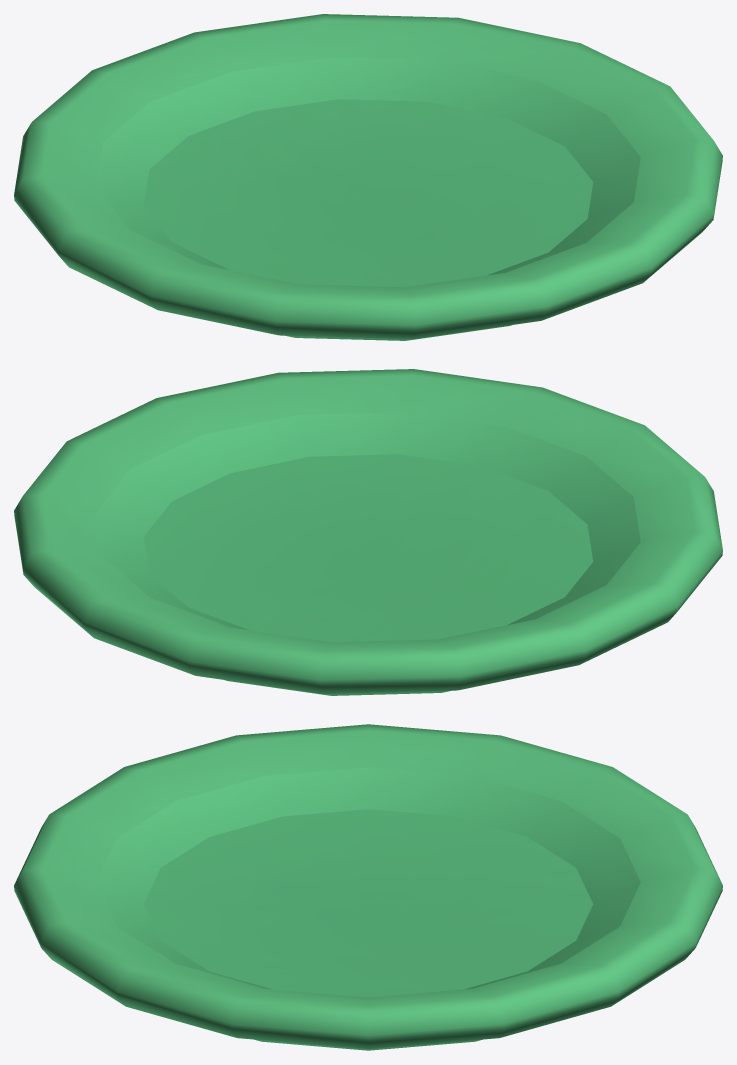
The model's file is Plate's.fbx.
3 views of the same model, one above another, from view 1: azimuth 30°, elevation 25°; view 2: azimuth 150°, elevation 25°; view 3: azimuth 270°, elevation 25° (orthographic).
Parts seen in each view (by area): view 1: Plate_Green; view 2: Plate_Green; view 3: Plate_Green.
Part boxes in pixels (x1,y1,x2,y2): Plate_Green: [14, 14, 722, 340]; Plate_Green: [14, 369, 722, 695]; Plate_Green: [14, 724, 722, 1050].
Bounding box in the file's own units: 53.9 × 5.95 × 53.9.
